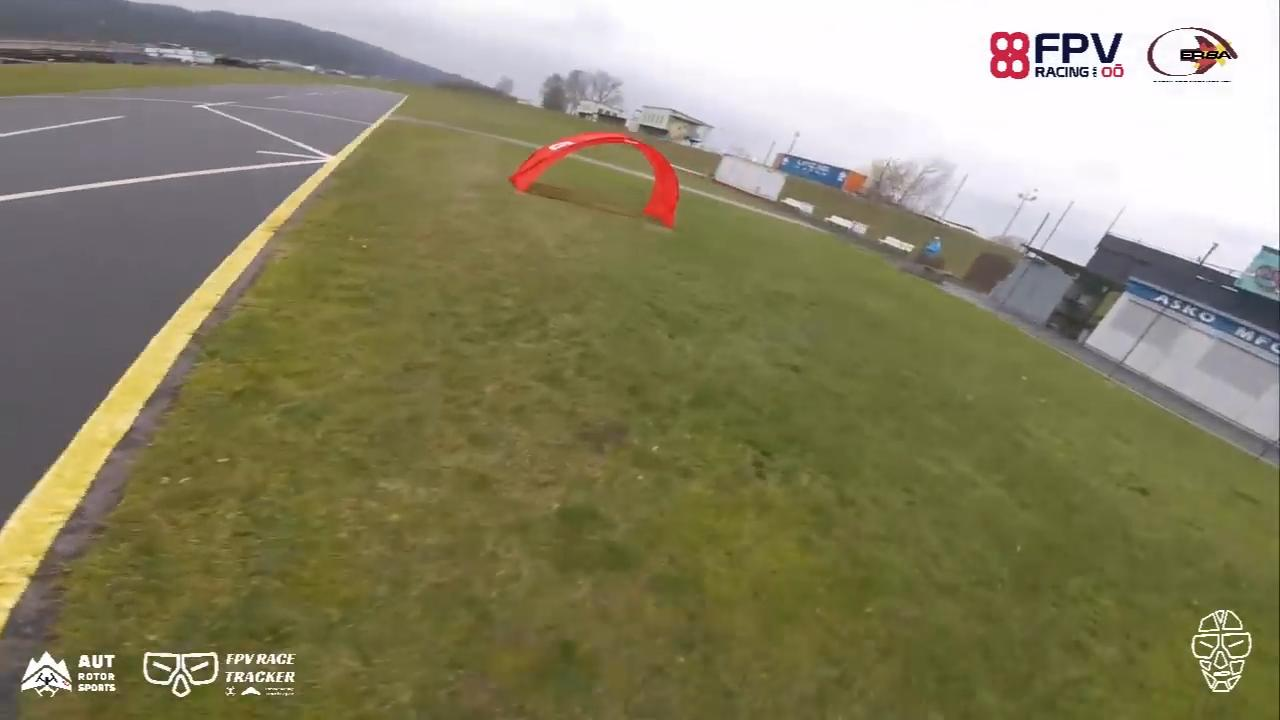gate: (509, 127, 680, 233)
